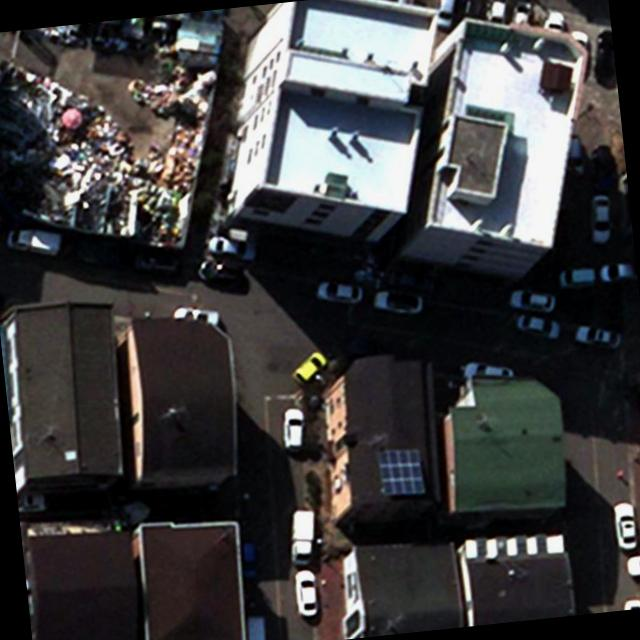solar: (374, 442, 428, 501)
